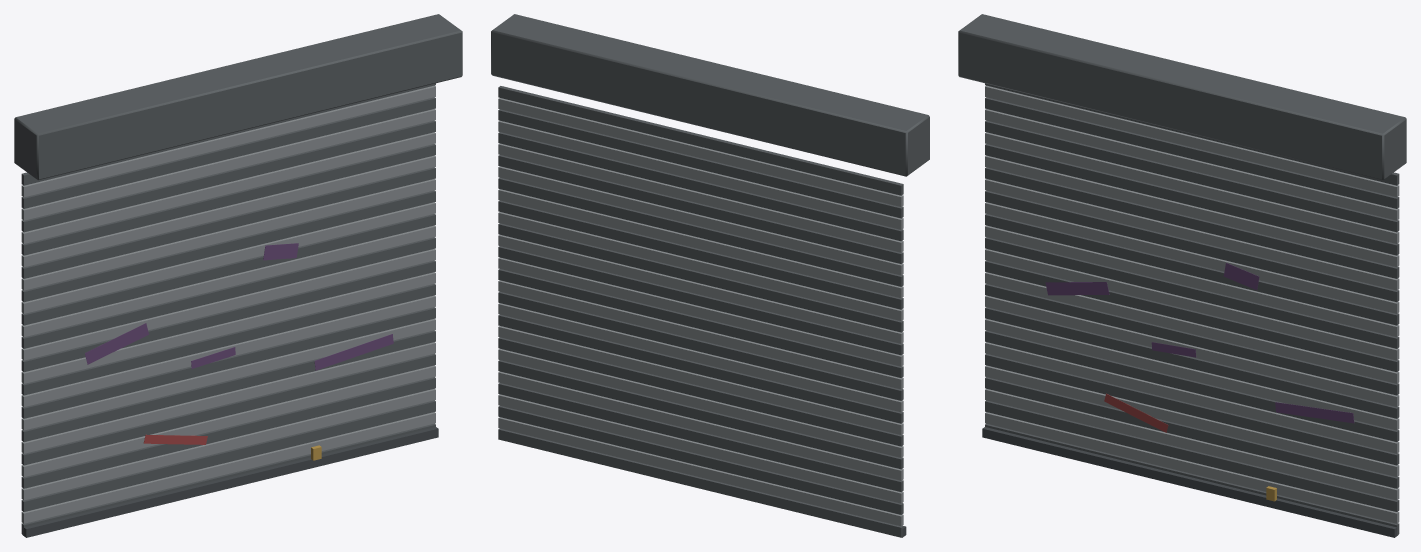
Rendered from rolling_shutter.glb.
3 views of the same model, side by side, from view 1: azimuth 30°, elevation 25°; view 2: azimuth 150°, elevation 25°; view 3: azimuth 330°, elevation 25° (orthographic). The views are drawn at different scales.
Visible parts, largest first — view 1: RollingShutter; view 2: RollingShutter; view 3: RollingShutter.
Part boxes in pixels (x1,y1,x2,y2): RollingShutter: (14,14,462,537); RollingShutter: (491,14,929,537); RollingShutter: (958,14,1406,537).
Bounding box in the file's own units: 3.06 × 2.87 × 0.3.
